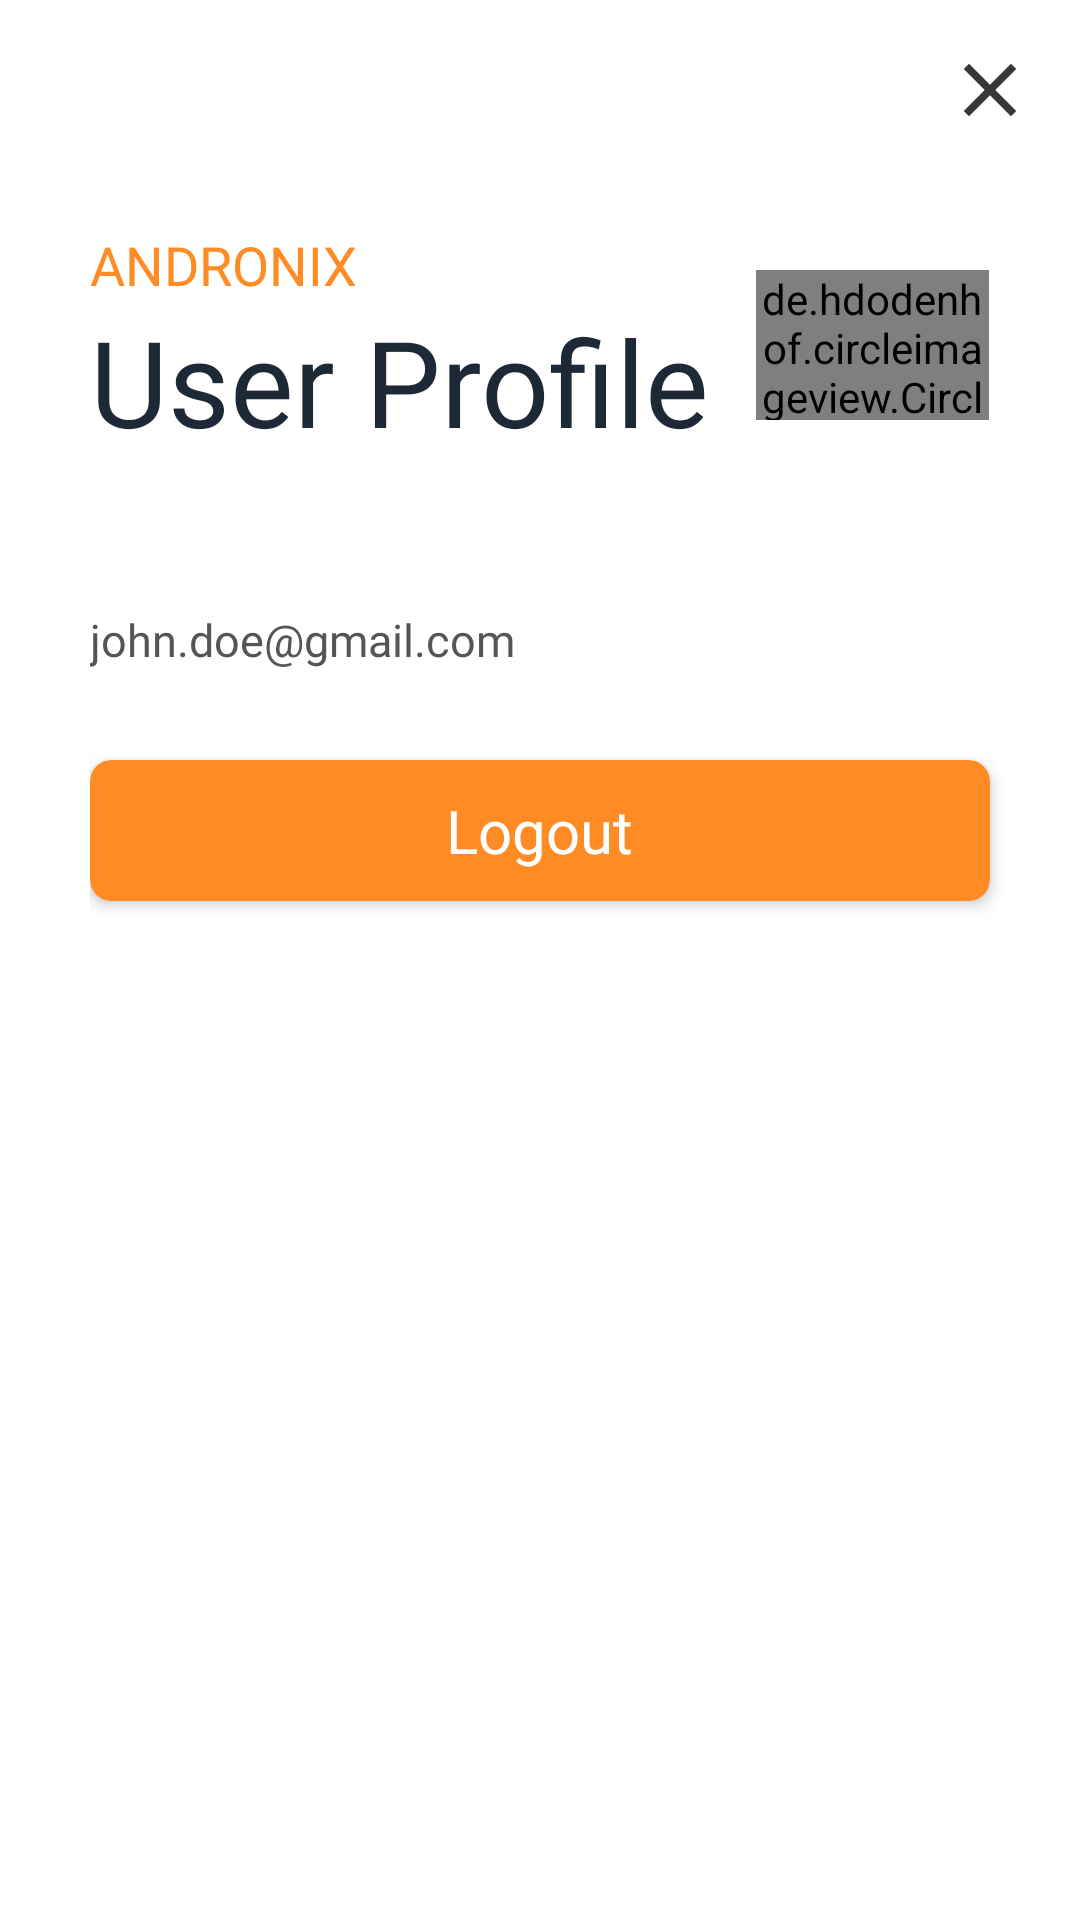

Named icons in this screenshot (1080x1920) and their bounding boxes, Rect(x1, y1, x2, y2):
close: Rect(964, 64, 1016, 116)
